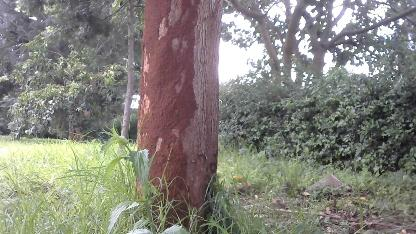tree: (133, 0, 231, 232)
